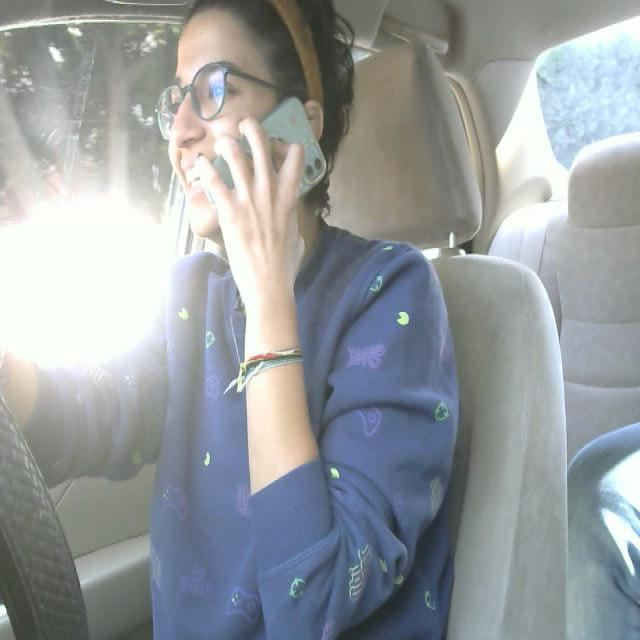mobile use: (204, 90, 332, 246)
